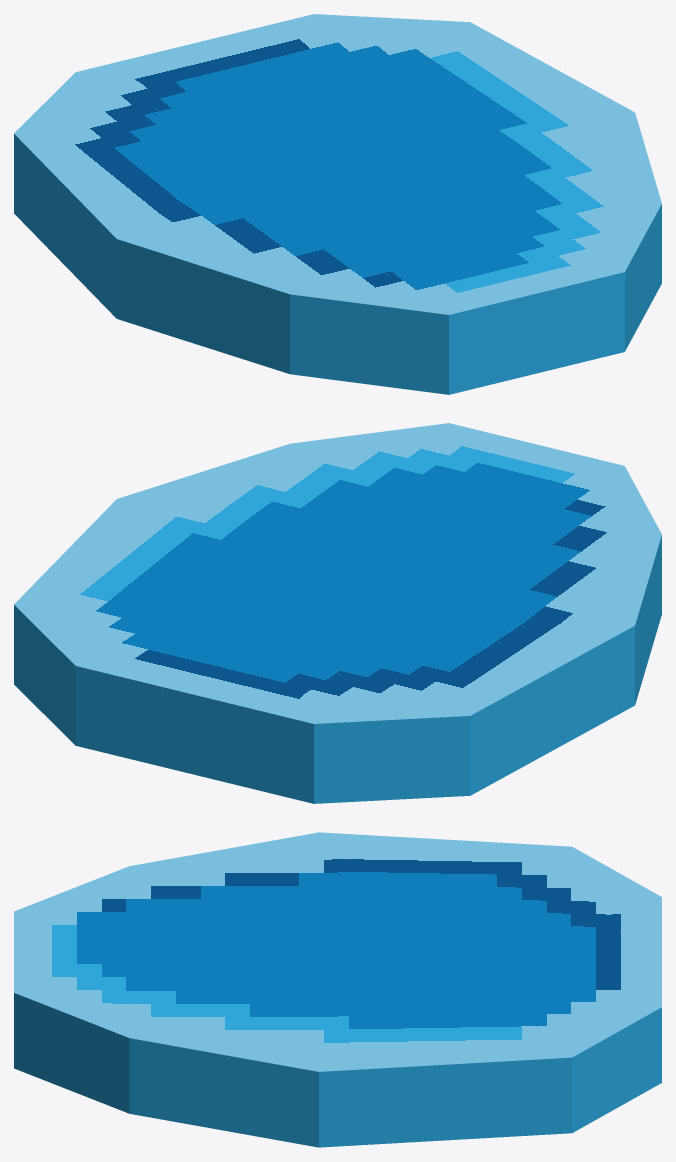
File: Fbx_Artifact.fbx
The picture shows the model from 3 angles, top to bottom: view 1: azimuth 30°, elevation 25°; view 2: azimuth 150°, elevation 25°; view 3: azimuth 270°, elevation 25°; orthographic projection. The views are drawn at different scales.
Visible parts, largest first — view 1: Artifact; view 2: Artifact; view 3: Artifact.
Boxes of the visible parts, x1=… form: Artifact: x1=14, y1=14, x2=661, y2=394; Artifact: x1=14, y1=423, x2=661, y2=803; Artifact: x1=14, y1=832, x2=661, y2=1147.
Bounding box in the file's own units: 0.6833 × 0.1007 × 0.7812.
